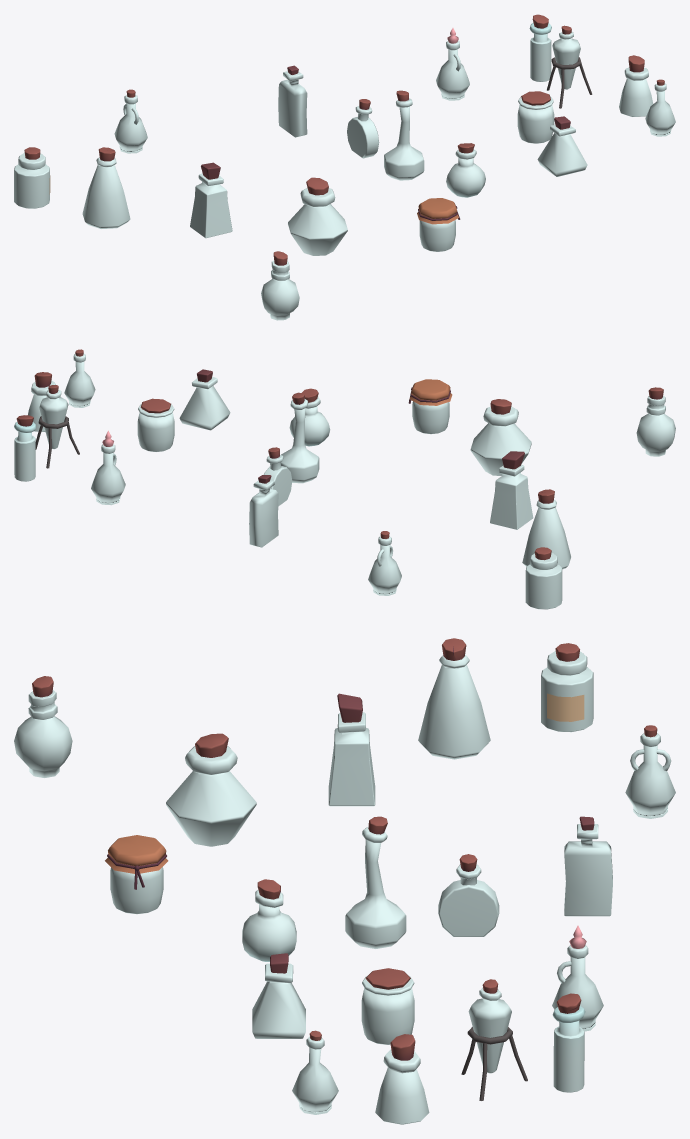
File: Potions_Final_CT.fbx
The picture shows the model from 3 angles, top to bottom: view 1: azimuth 30°, elevation 25°; view 2: azimuth 150°, elevation 25°; view 3: azimuth 270°, elevation 25°; orthographic projection. The views are drawn at different scales.
Parts seen in each view (by area): view 1: Sphere.003, Sphere.001, Sphere.004, Sphere.006, Sphere.015, Cylinder.003, Sphere.012, Cylinder.006, Sphere.013, Sphere.002, Cylinder.004, Potion (+7 smaller); view 2: Sphere.003, Sphere.004, Sphere.001, Sphere.006, Sphere.015, Sphere.012, Cylinder.006, Sphere.013, Sphere.002, Cylinder.003, Sphere.009, Sphere.010 (+7 smaller); view 3: Sphere.003, Sphere.001, Sphere.004, Sphere.002, Sphere.006, Sphere.015, Cylinder.003, Cylinder.006, Sphere.013, Sphere.005, Cylinder.004, Sphere.012 (+7 smaller).
Part boxes in pixels (box(x1,y1,x2,y2)): Sphere.003: box(288, 177, 347, 255); Sphere.001: box(82, 147, 130, 228); Sphere.004: box(190, 162, 232, 238); Sphere.006: box(14, 147, 50, 208); Sphere.015: box(417, 198, 460, 251); Cylinder.003: box(384, 90, 424, 180); Sphere.012: box(537, 116, 587, 176); Cylinder.006: box(261, 251, 299, 320); Sphere.013: box(517, 91, 554, 143); Sphere.002: box(278, 65, 307, 137); Cylinder.004: box(619, 55, 653, 116); Potion: box(446, 143, 485, 197); Sphere.003: box(470, 399, 531, 475); Sphere.004: box(490, 451, 533, 529); Sphere.001: box(522, 489, 570, 569); Sphere.006: box(525, 547, 562, 609); Sphere.015: box(408, 379, 452, 434); Sphere.012: box(179, 369, 230, 430); Cylinder.006: box(636, 387, 675, 456); Sphere.013: box(137, 398, 174, 451); Sphere.002: box(249, 475, 278, 547); Cylinder.003: box(281, 392, 319, 483); Sphere.009: box(91, 430, 125, 505); Sphere.010: box(368, 531, 401, 595); Sphere.003: box(166, 733, 256, 846); Sphere.001: box(418, 638, 490, 759); Sphere.004: box(328, 693, 375, 806); Sphere.002: box(564, 816, 612, 916); Sphere.006: box(541, 643, 593, 732); Sphere.015: box(105, 835, 168, 914); Cylinder.003: box(345, 816, 406, 948); Cylinder.006: box(14, 676, 72, 777); Sphere.013: box(361, 968, 414, 1044); Sphere.005: box(438, 854, 499, 936); Cylinder.004: box(375, 1034, 429, 1124); Sphere.012: box(252, 953, 305, 1038).
Bounding box in the file's own units: 3227 × 443 × 2184.
